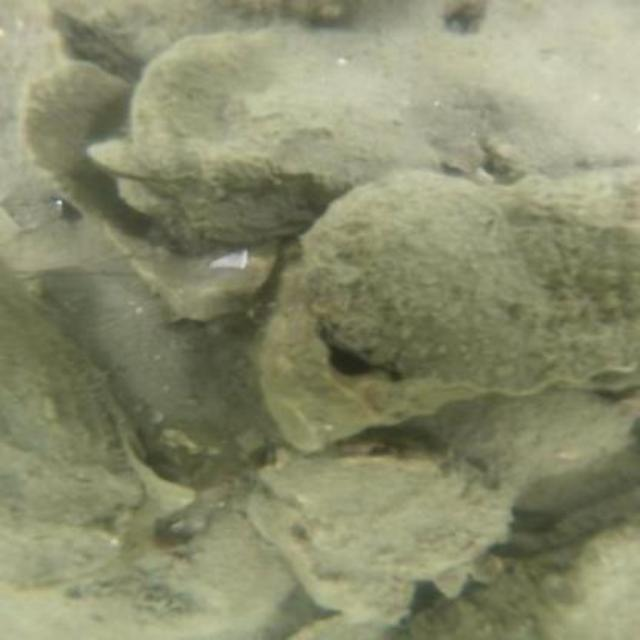Oyster-Closed: (85, 22, 441, 250), (294, 169, 626, 391), (15, 57, 281, 325), (252, 446, 508, 610), (3, 283, 141, 582), (58, 508, 290, 634)
Oyster-Open: (256, 252, 492, 461)
